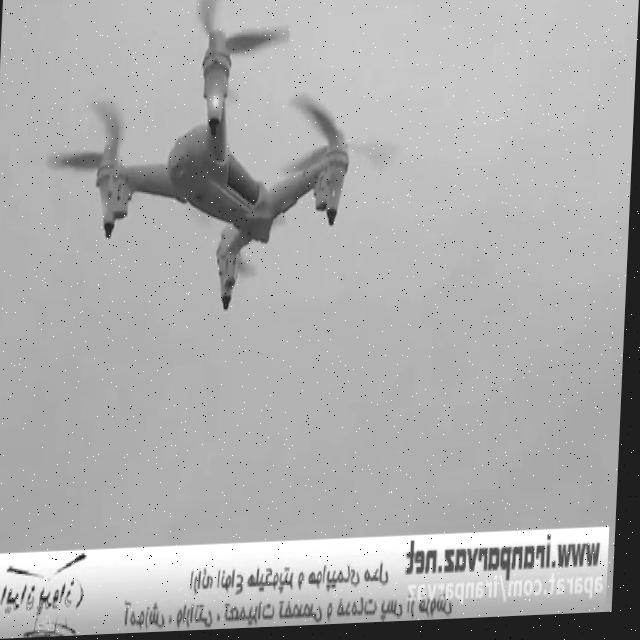drone: (34, 0, 409, 322)
